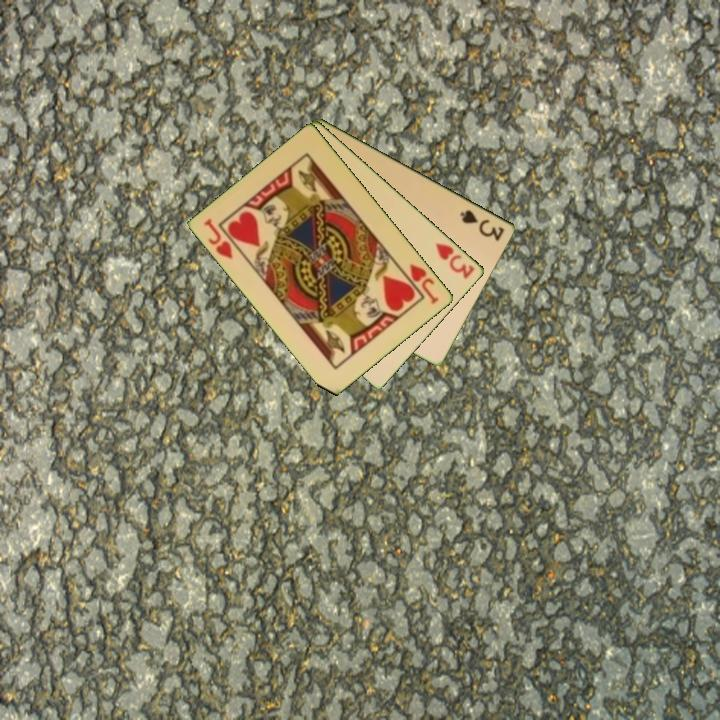3h: (432, 239, 478, 282)
3s: (457, 206, 508, 244)
Jh: (406, 260, 442, 307), (201, 215, 236, 262)
